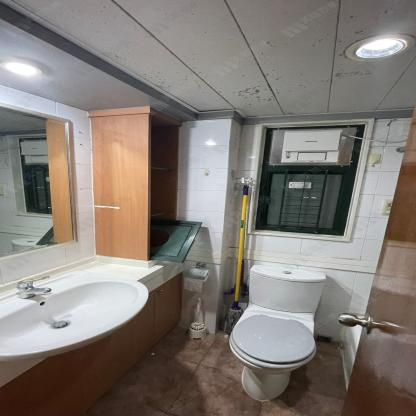Toilet: (225, 264, 326, 401)
Toilet Sink: (0, 276, 151, 362)
